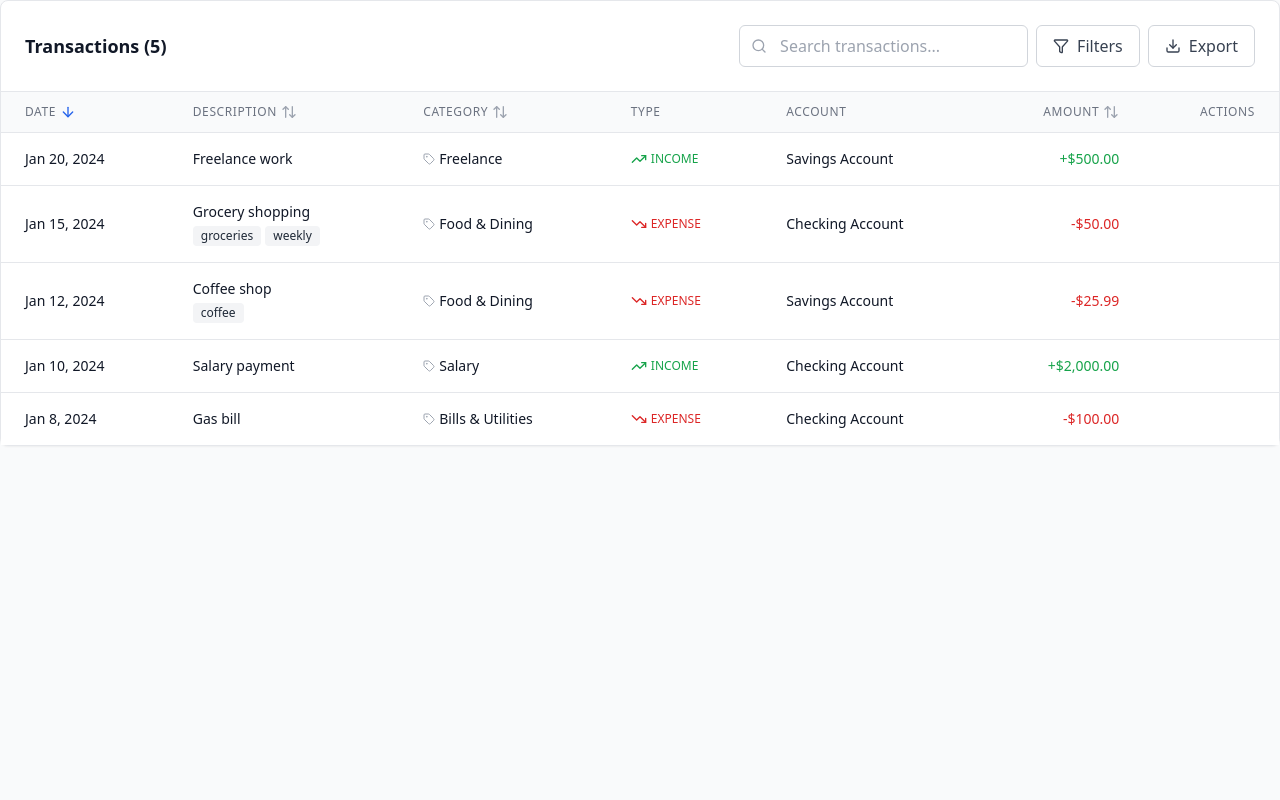
TransactionList › Filter Functionality › filters by transaction type
The width and height of the screenshot is (1280, 800).
Show filters
Click the button "Filters". click: (1088, 46)
box: 1036,25 -> 1140,67
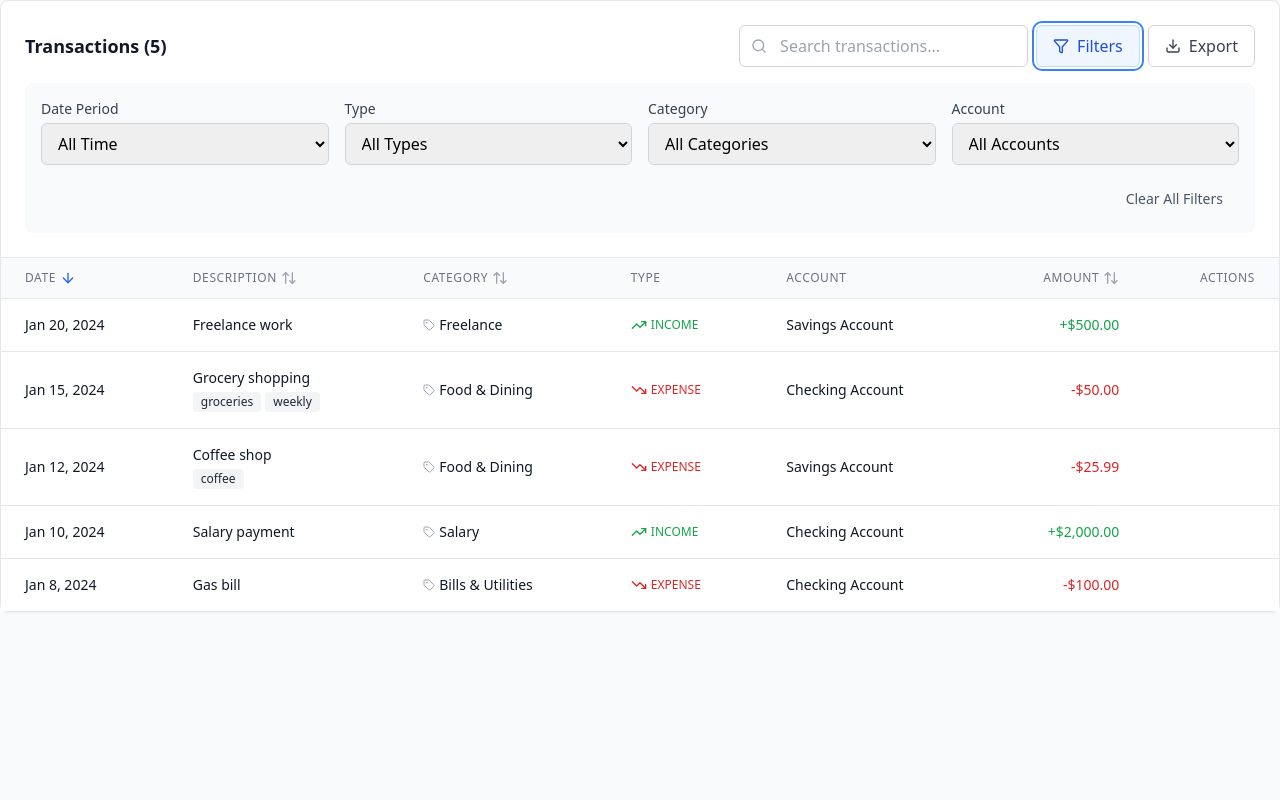
Filter by income only
Select "Income" in the 2nd dropdown showing "All Types". click: (488, 144)
box: 344,123 -> 632,165
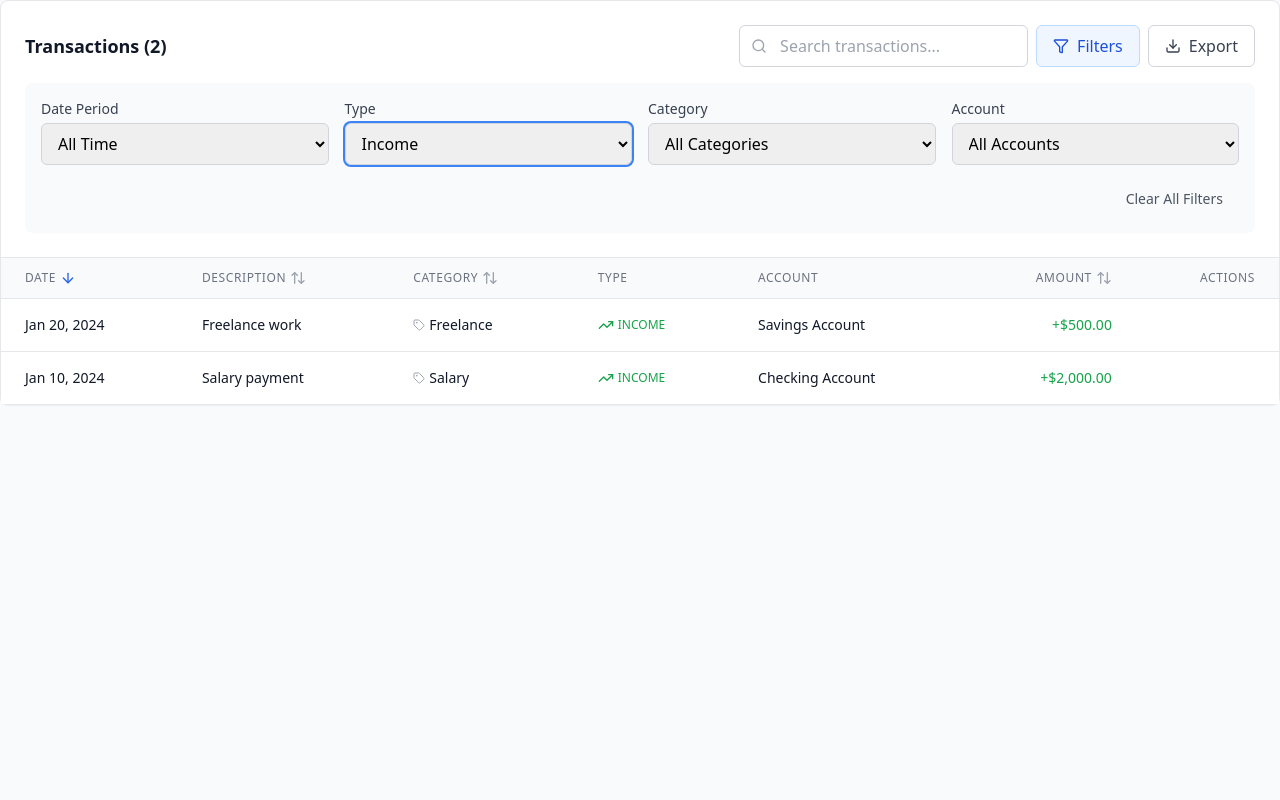
Expected: the text "Salary payment" is shown, 202,368 -> 304,387
Result: the text "Grocery shopping" is gone
Result: the heading "Transactions (2)" is shown at 25,32 -> 166,60
